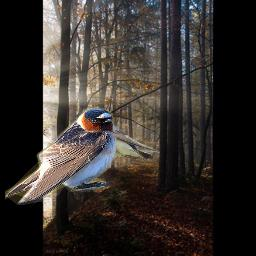Swallow: (5, 107, 117, 206), (83, 108, 160, 166)
